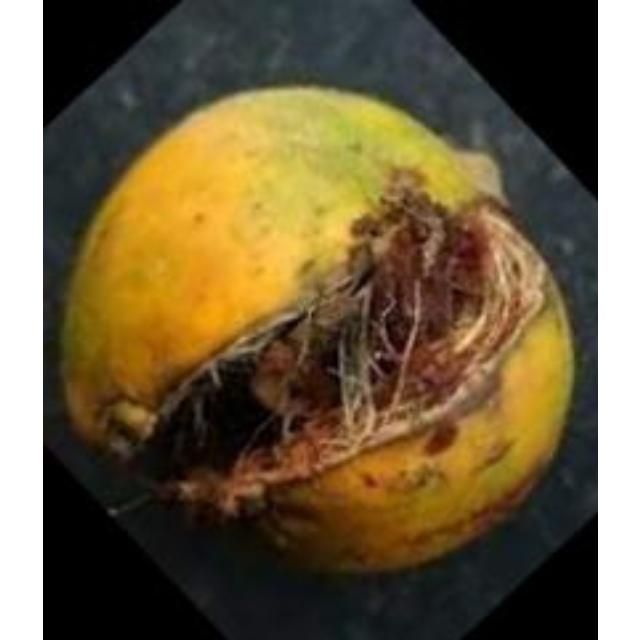damaged: (58, 85, 576, 587)
